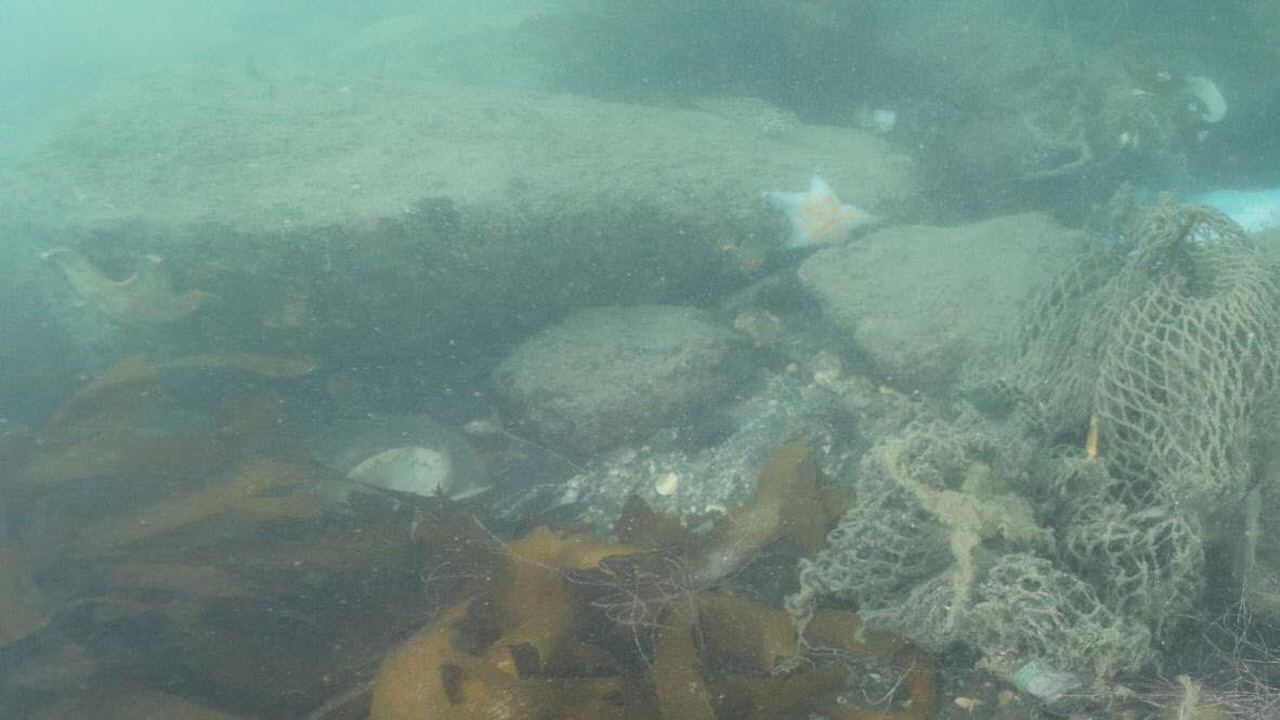fish net: (811, 200, 1280, 670)
